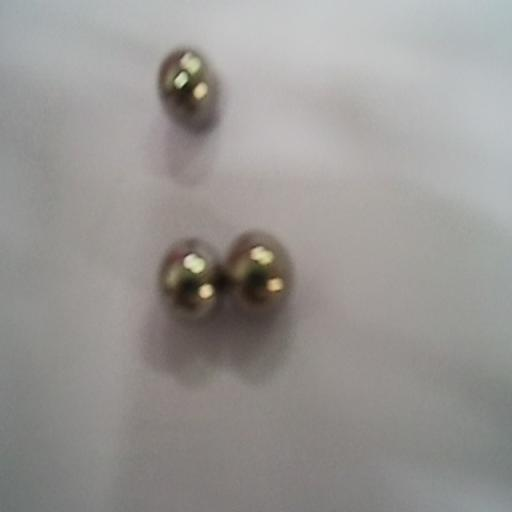steel-ball: (154, 40, 228, 137), (226, 232, 290, 329), (159, 232, 223, 328)
